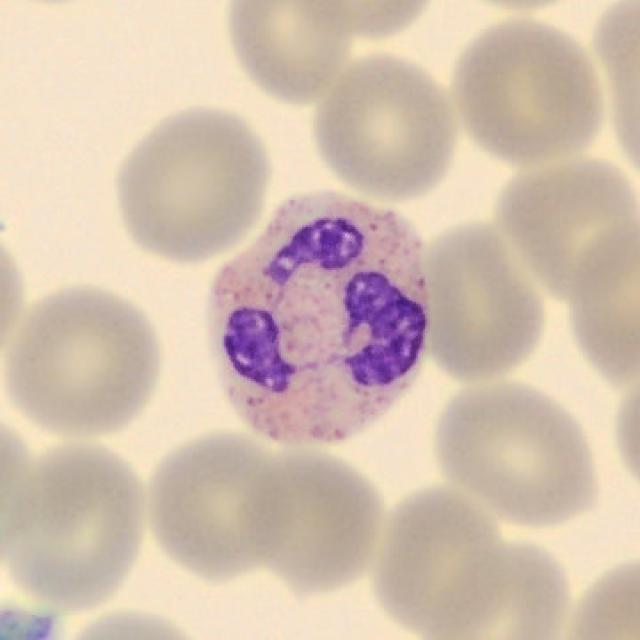Neutrofilo segmentado: (204, 191, 430, 447)
